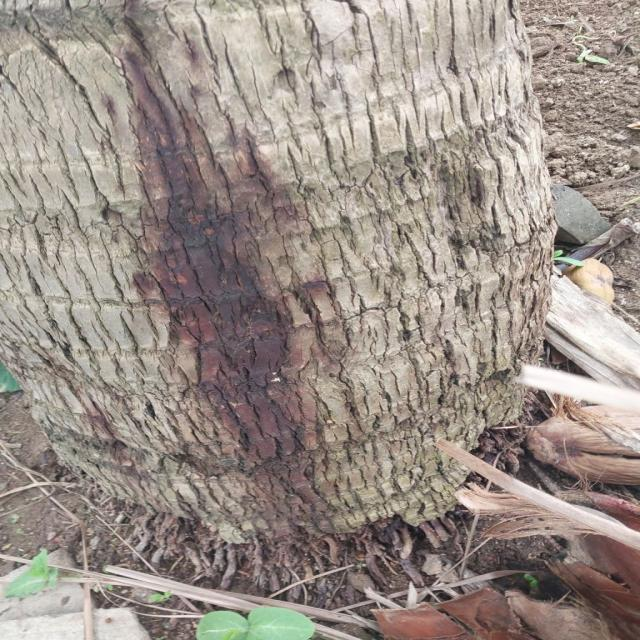stembleeding: (47, 37, 402, 532)
